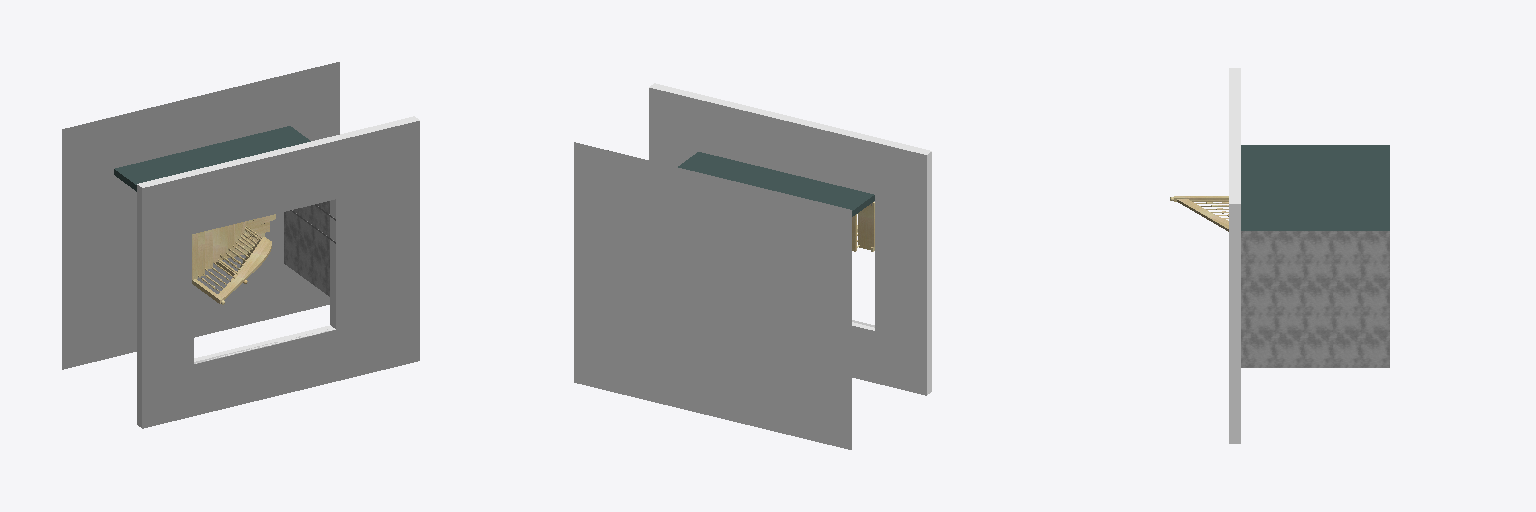
3 renders of one model, left to right at view 1: azimuth 30°, elevation 25°; view 2: azimuth 150°, elevation 25°; view 3: azimuth 270°, elevation 25°, orthographic.
Size of the model in its own units: 558 by 462 by 383.
Materials: 7 (2 with a texture image).